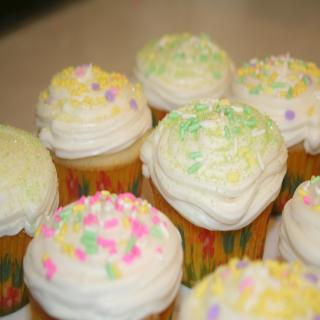Muffin: (0, 30, 320, 320)
